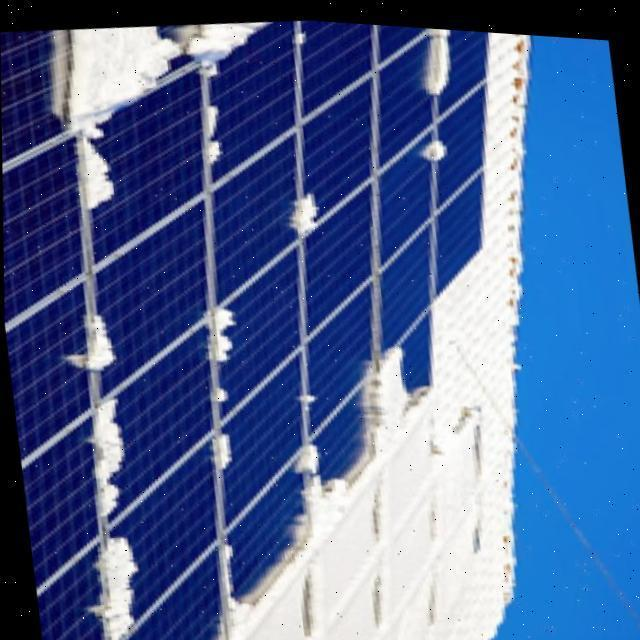Anomaly Solar Panel: (0, 16, 605, 640)
Snow: (197, 304, 448, 640), (57, 23, 189, 121), (171, 17, 275, 79), (92, 396, 126, 517), (75, 107, 115, 208), (101, 532, 137, 640), (84, 314, 112, 370), (428, 22, 450, 86), (208, 424, 239, 465), (212, 301, 232, 362), (292, 184, 317, 229), (205, 101, 222, 158), (429, 132, 445, 153)
